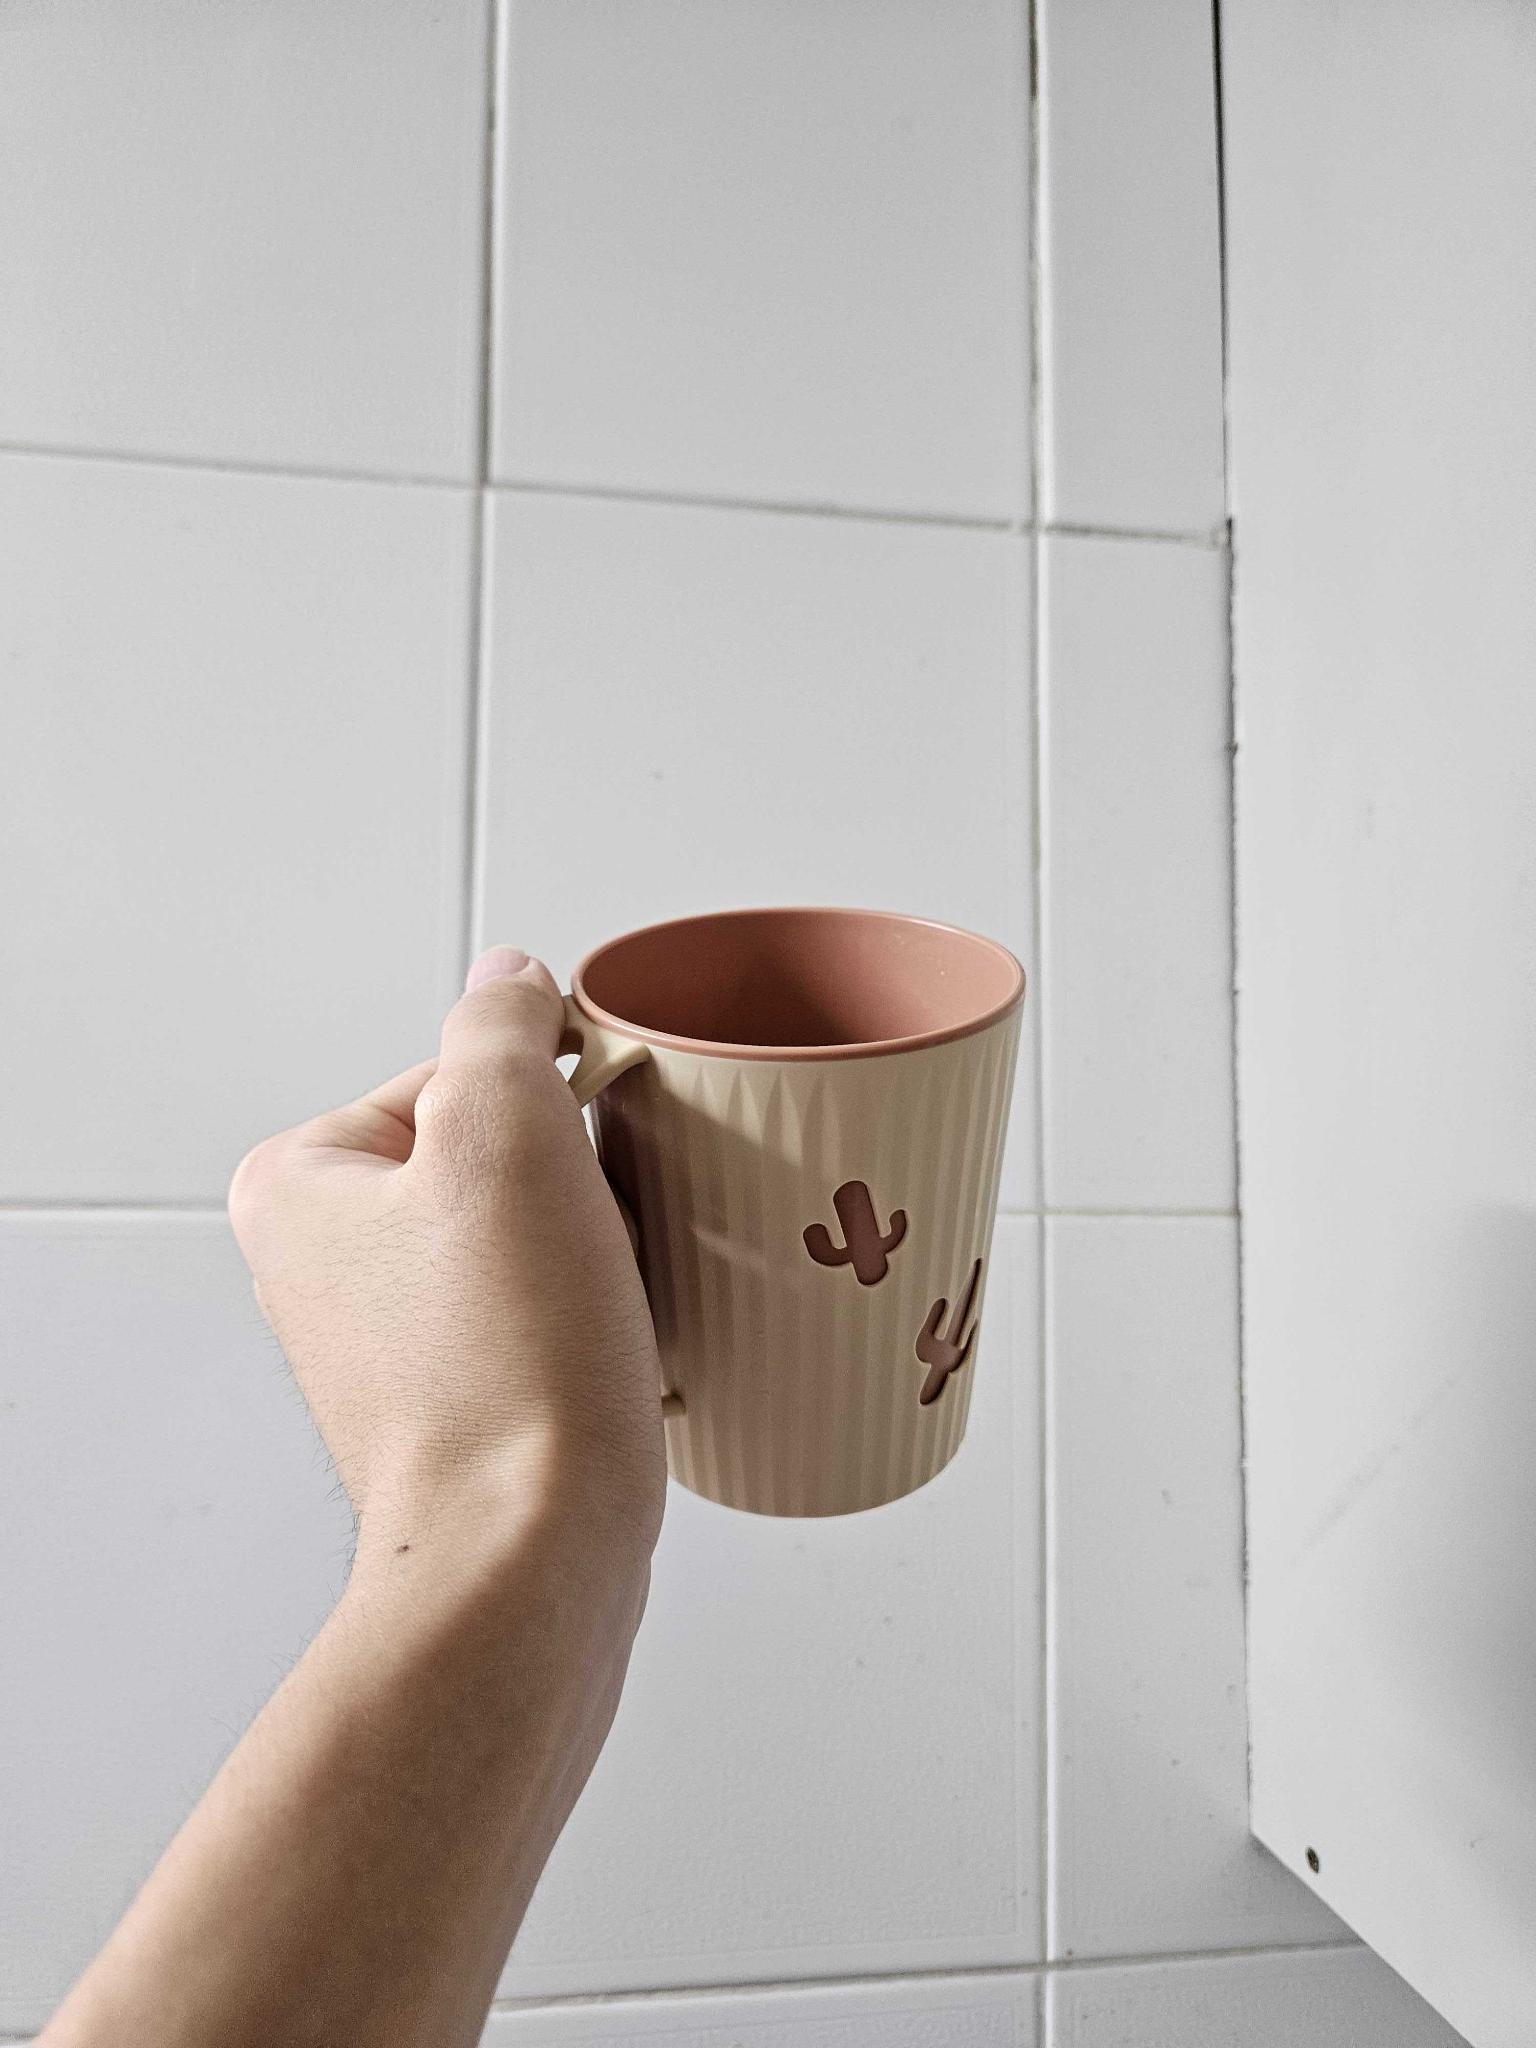cup: (210, 906, 1031, 1638)
